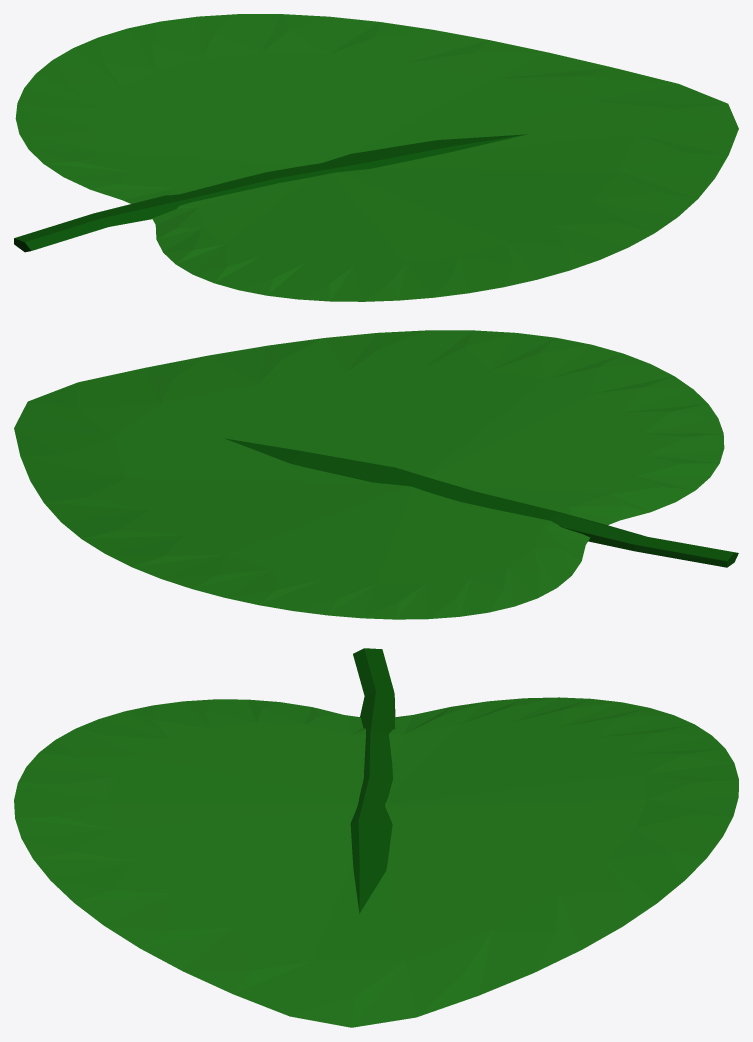
File: Leaf_03.fbx
The picture shows the model from 3 angles, top to bottom: view 1: azimuth 30°, elevation 25°; view 2: azimuth 150°, elevation 25°; view 3: azimuth 270°, elevation 25°; orthographic projection. The views are drawn at different scales.
Parts seen in each view (by area): view 1: Leaf; view 2: Leaf; view 3: Leaf.
Boxes of the visible parts, x1,y1,x2,y2 form: Leaf: (14, 14, 738, 301); Leaf: (14, 330, 738, 619); Leaf: (14, 648, 738, 1027).
Bounding box in the file's own units: 1.64 × 0.0896 × 1.43.
